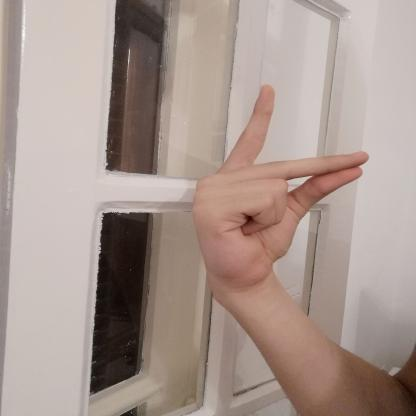TAA: (178, 74, 377, 297)
